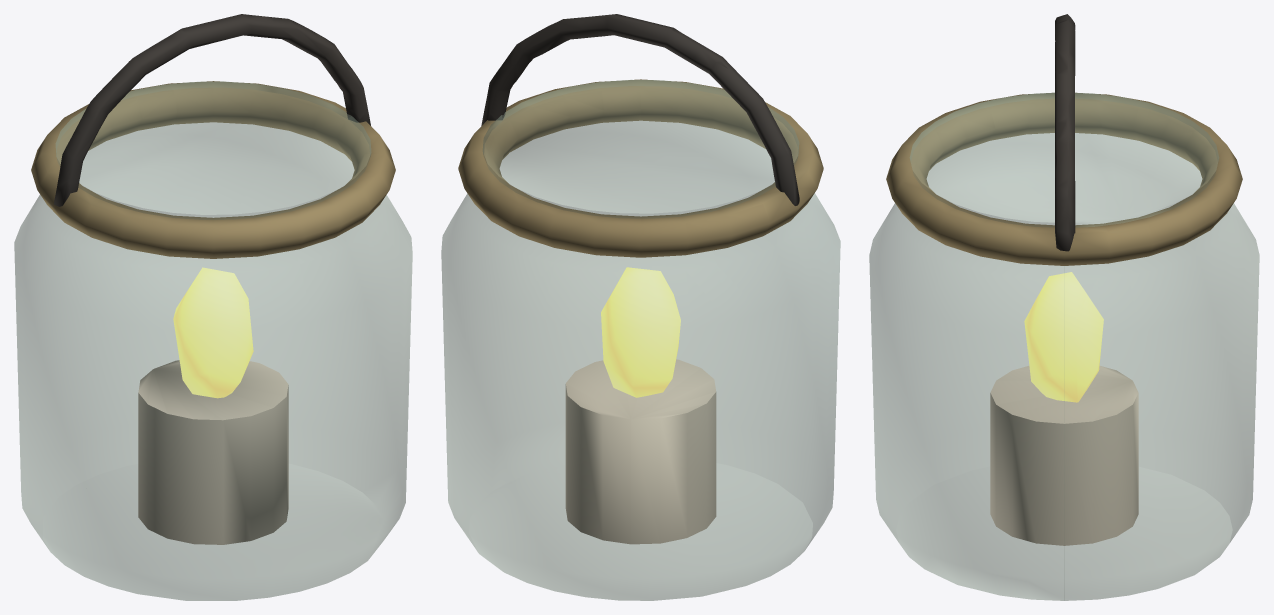
The model's file is mire_jar_lantern_lod1.glb.
3 renders of one model, left to right at view 1: azimuth 30°, elevation 25°; view 2: azimuth 150°, elevation 25°; view 3: azimuth 270°, elevation 25°, orthographic. The views are drawn at different scales.
Parts seen in each view (by area): view 1: mire_jar_lantern.001, flame.001; view 2: mire_jar_lantern.001, flame.001; view 3: mire_jar_lantern.001, flame.001.
Part boxes in pixels (x1,y1,x2,y2): mire_jar_lantern.001: (14, 14, 412, 600); flame.001: (173, 267, 253, 398); mire_jar_lantern.001: (441, 14, 840, 600); flame.001: (601, 267, 680, 397); mire_jar_lantern.001: (869, 14, 1259, 600); flame.001: (1024, 272, 1103, 402).
Bounding box in the file's own units: 1.16 × 1.62 × 1.16.
